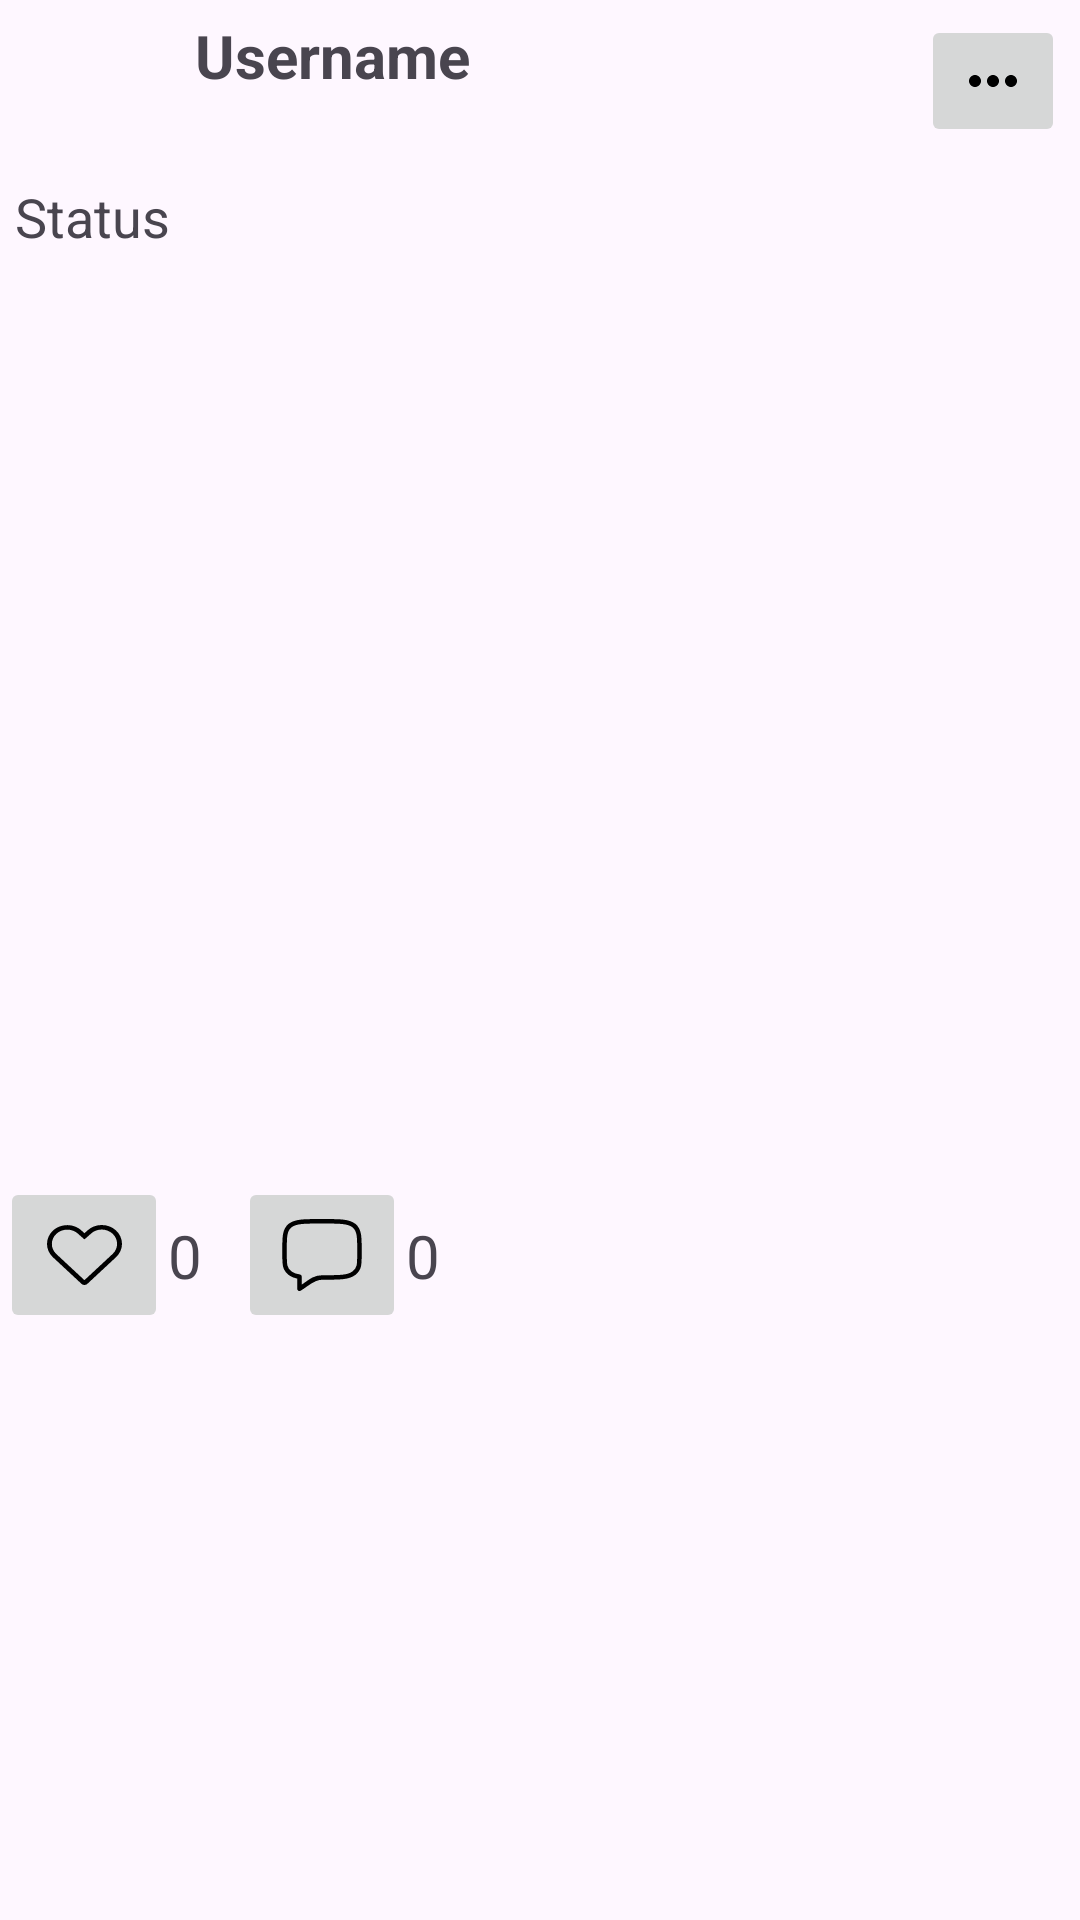

Icon click points for this 1080x1920 phone screenshot, format [x,y]:
comment: [322,1255]
like: [84,1255]
option: [993,81]
